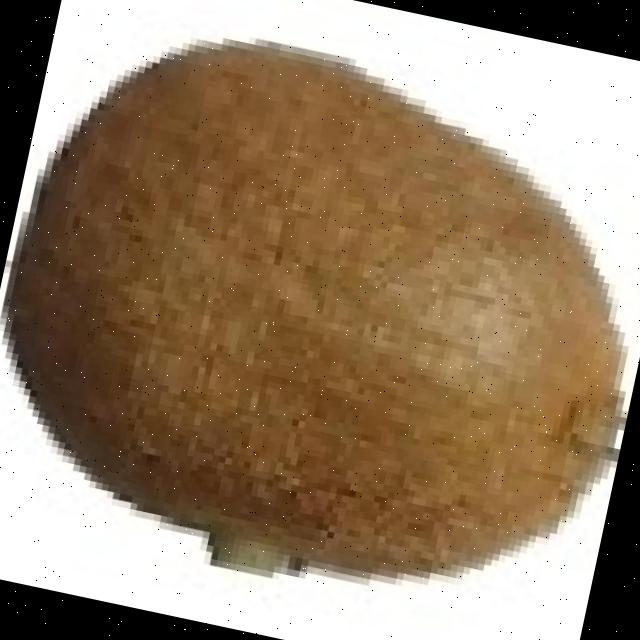kiwi: (20, 40, 632, 563)
